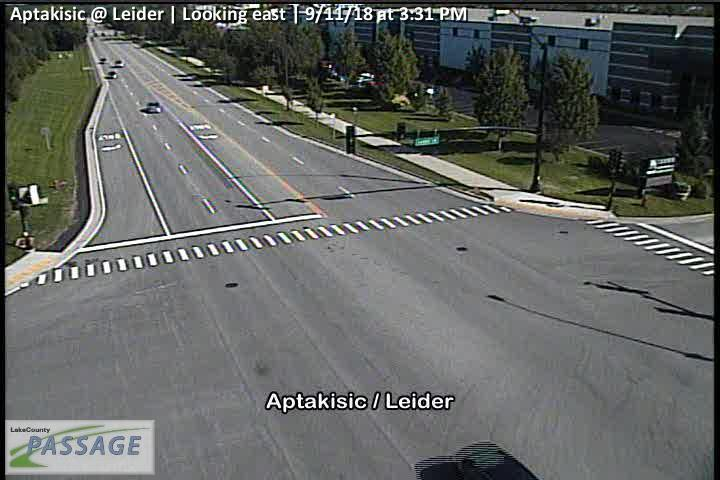Sedan: (455, 441, 539, 480), (146, 101, 161, 113), (113, 60, 124, 67), (107, 72, 117, 79)
